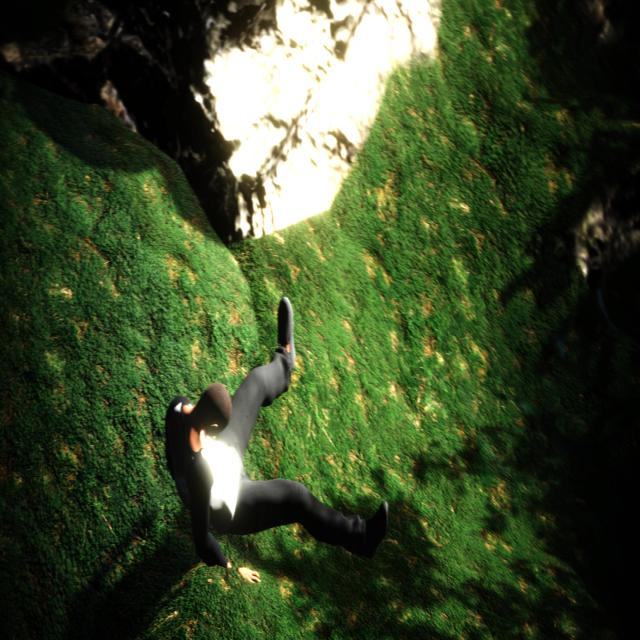Human: (157, 276, 396, 609)
